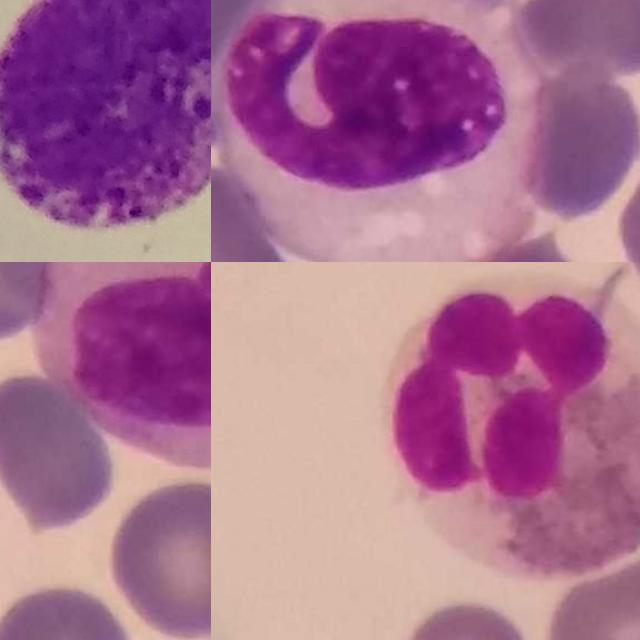Basophil: (0, 0, 211, 231)
Eosinophil: (388, 271, 640, 582)
Monocyte: (217, 0, 550, 262), (32, 262, 211, 467)
